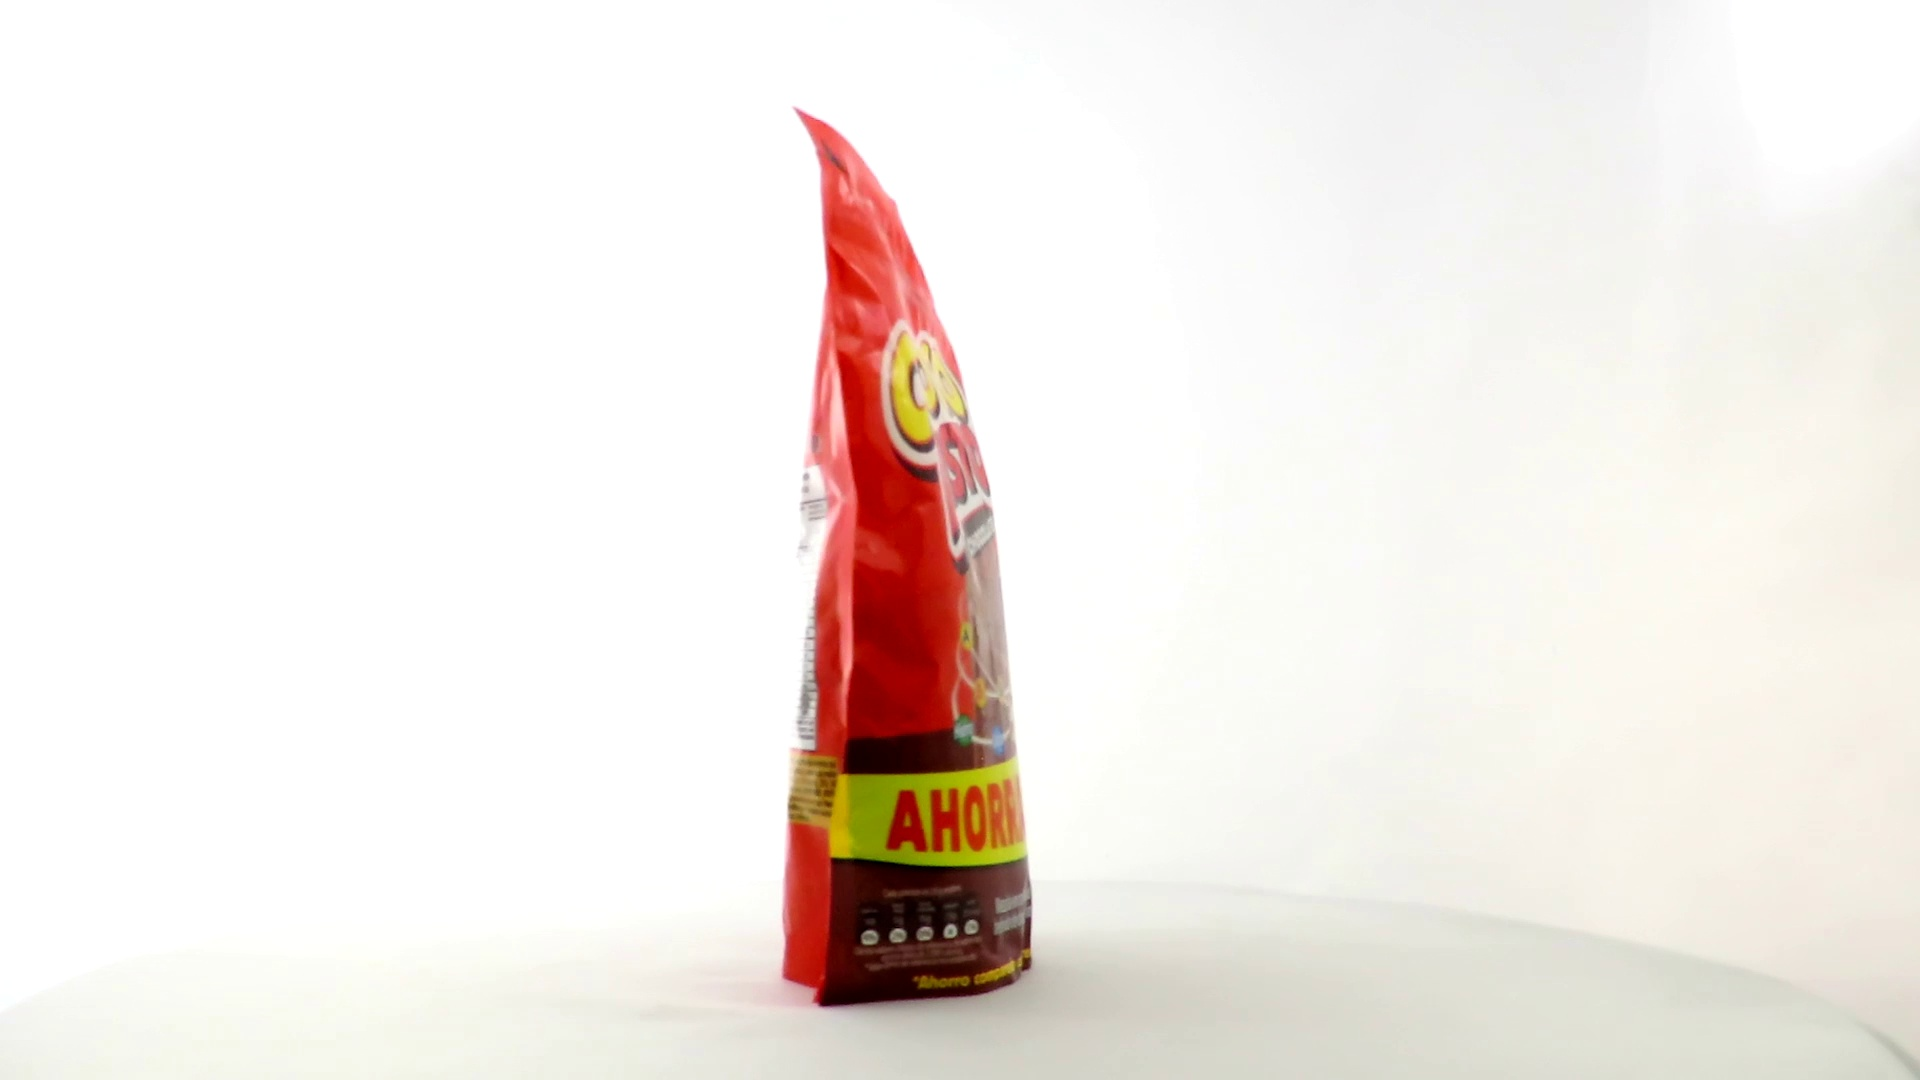COL0170103DYP36000: (777, 102, 1038, 1013)
